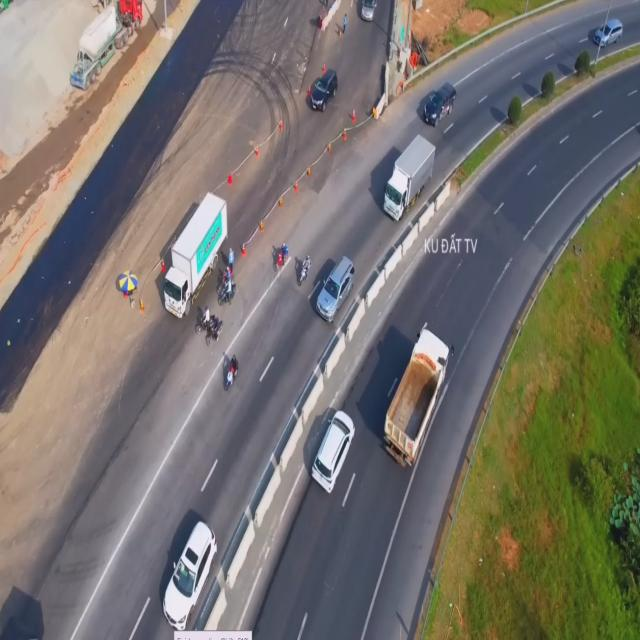car: (164, 528, 212, 626), (314, 410, 352, 502), (316, 258, 353, 324), (422, 81, 460, 126), (309, 61, 339, 110), (592, 16, 620, 48), (361, 1, 378, 24)
motorbike: (196, 312, 216, 337), (218, 283, 238, 306), (210, 317, 226, 344), (224, 357, 236, 388), (274, 243, 287, 271), (299, 258, 309, 288)
truck: (384, 321, 454, 474), (164, 194, 227, 317), (380, 133, 434, 218)
